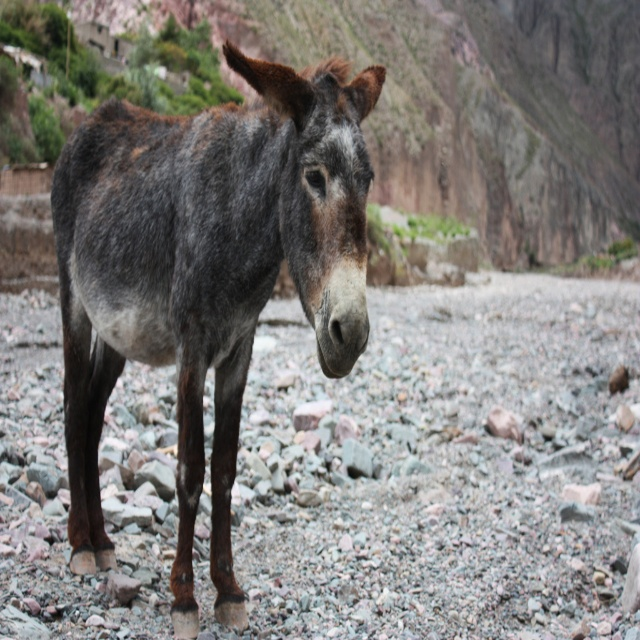Mule: (51, 42, 385, 639)
